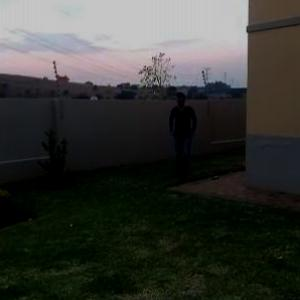follow: (168, 90, 199, 181)
